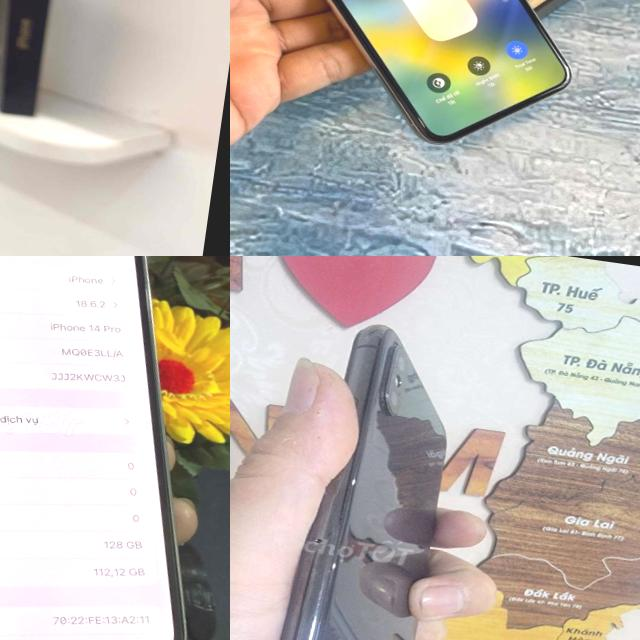gen_11: (230, 0, 609, 159)
gen_14: (0, 256, 230, 640)
gen_x_xs: (281, 326, 446, 640)
scratch: (308, 554, 361, 583), (343, 468, 362, 492)
